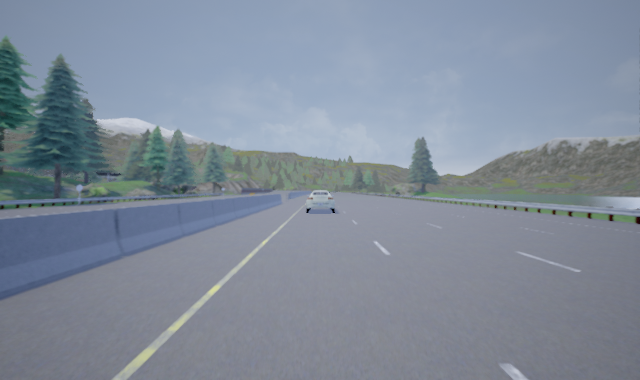vehicle: (305, 189, 335, 213)
